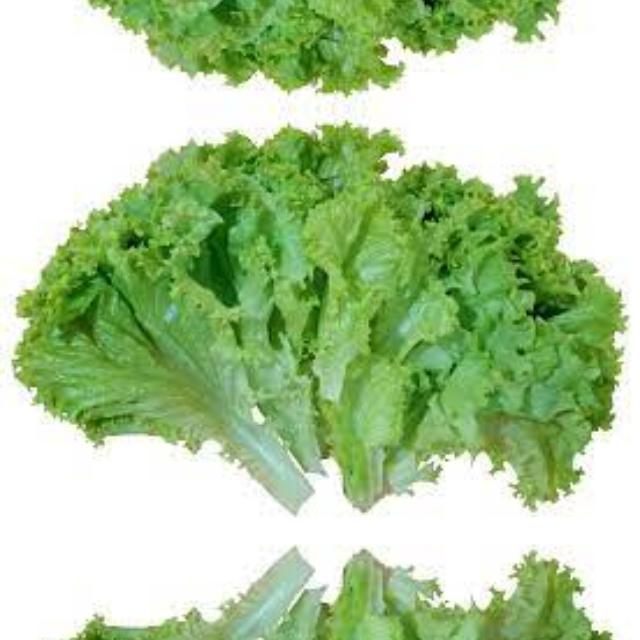healthy: (138, 154, 504, 448), (138, 0, 504, 62), (138, 611, 504, 640)
